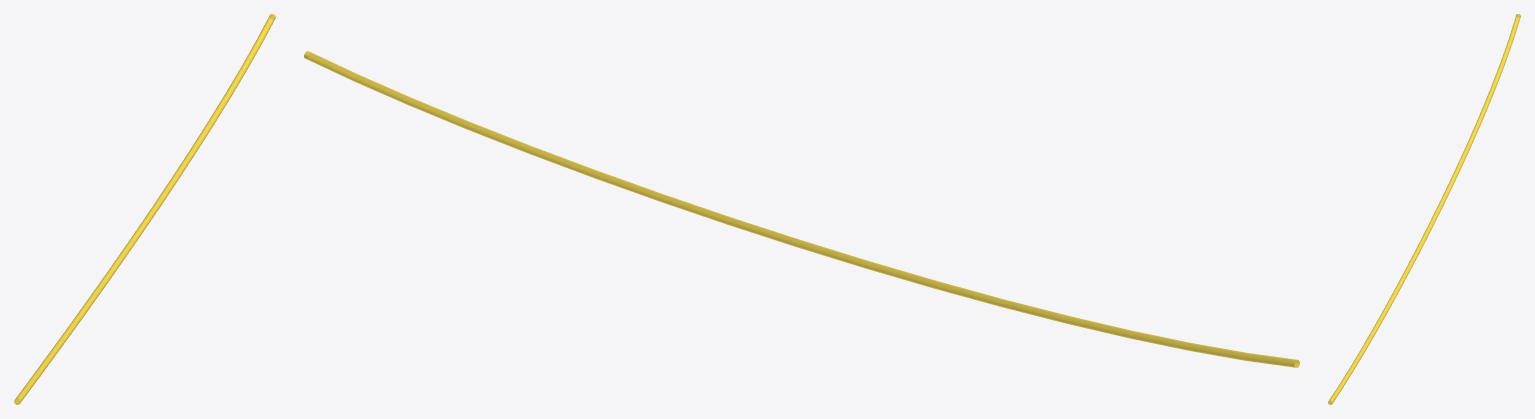
The model's file is Event_402970704_track_8.fbx.
3 views of the same model, side by side, from view 1: azimuth 90°, elevation 25°; view 2: azimuth 150°, elevation 25°; view 3: azimuth 270°, elevation 25° (orthographic). The views are drawn at different scales.
Parts seen in each view (by area): view 1: Model; view 2: Model; view 3: Model.
Boxes of the visible parts, box(x1,y1,x2,y2) form: Model: box(14, 14, 275, 404); Model: box(304, 51, 1299, 367); Model: box(1328, 14, 1520, 404).
Bounding box in the file's own units: 6.5 × 0.5295 × 1.58.
